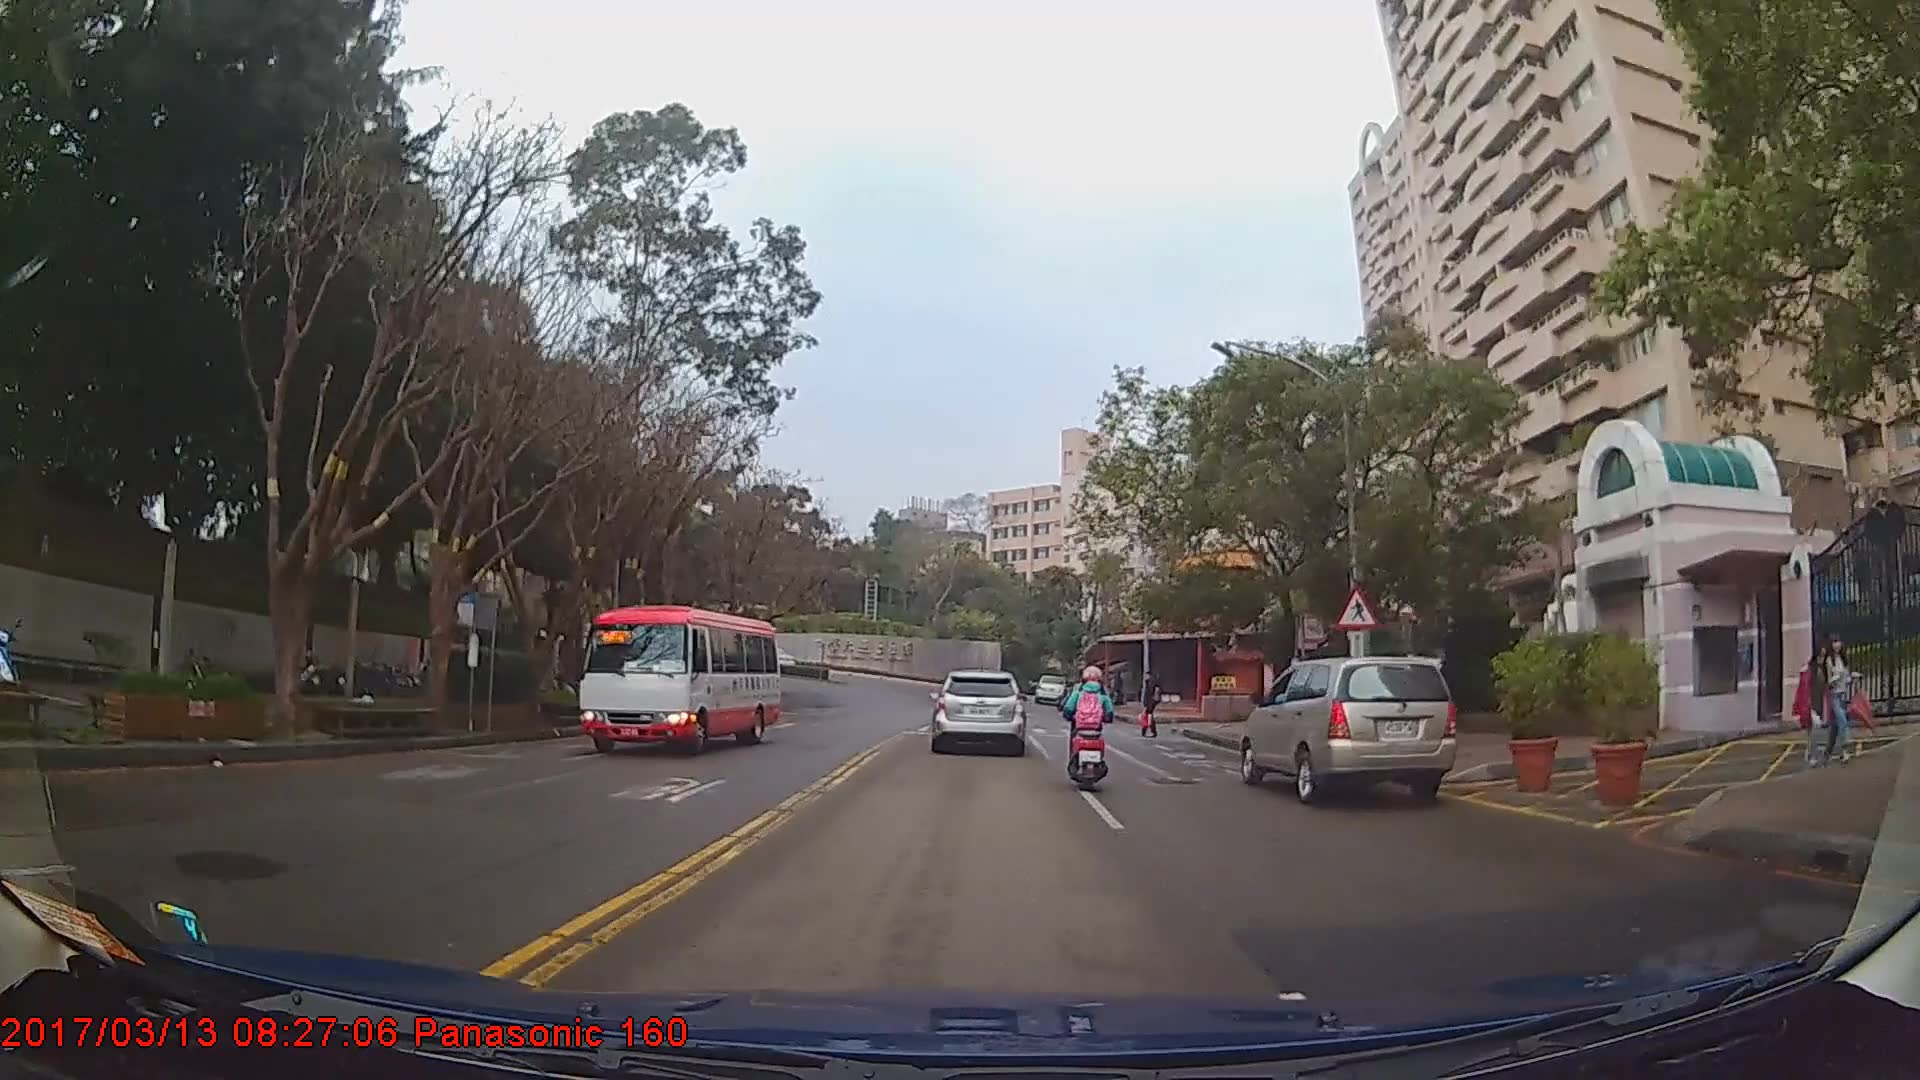pedestrian: (1787, 632, 1839, 786), (1819, 619, 1859, 775), (1138, 669, 1164, 742)
rider: (1063, 664, 1118, 793)
vehicle: (1239, 654, 1456, 804), (574, 603, 781, 754), (928, 667, 1026, 755), (1033, 673, 1067, 702)
